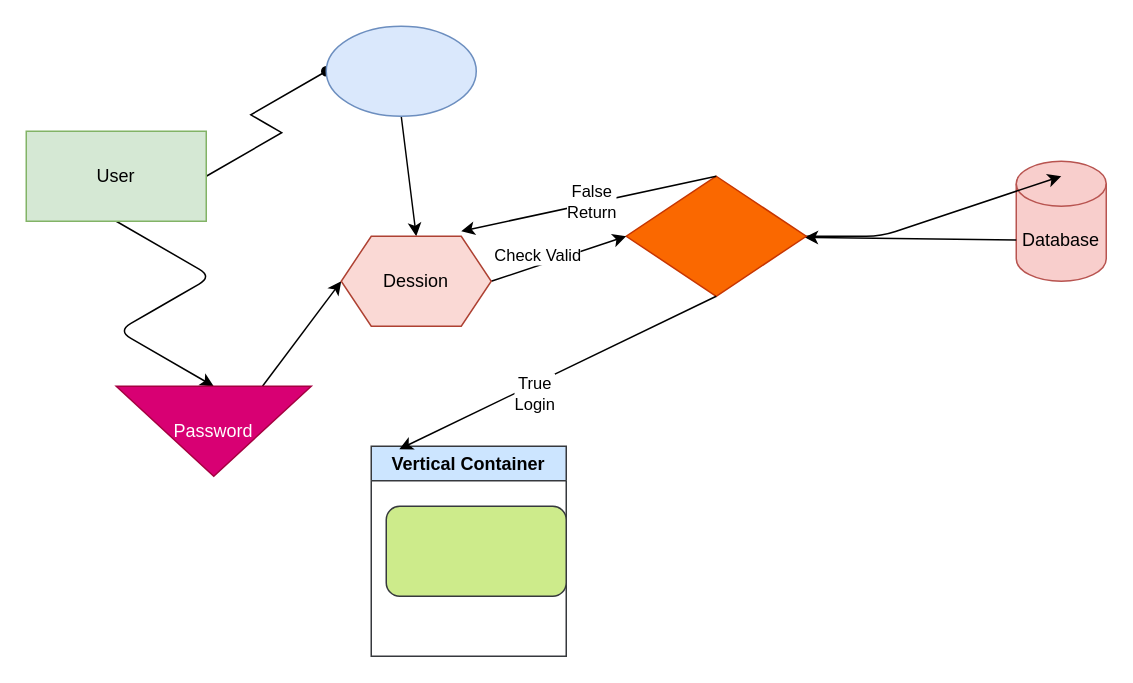
Some shapes in this 1133 by 683 pixel diagram are drawn without their labels. The shapes that lost their labels are listed below. From the top down, each one's box as (x1, y1, x2, y2) in pixels, then its label:
(325, 25, 476, 116): Email
(625, 175, 806, 296): Validation
(385, 505, 566, 596): Dashboard
